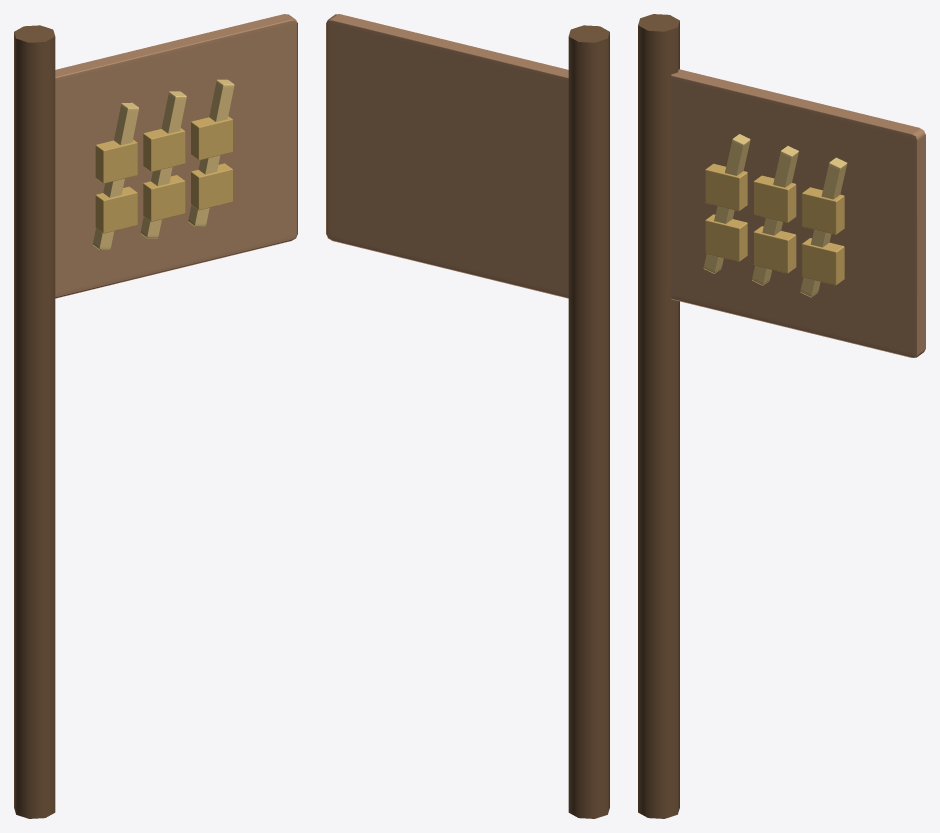
Rendered from wheatbanner-3.glb.
The picture shows the model from 3 angles, left to right: view 1: azimuth 30°, elevation 25°; view 2: azimuth 150°, elevation 25°; view 3: azimuth 330°, elevation 25°; orthographic projection.
Visible parts, largest first — view 1: wheatbanner-3-0; view 2: wheatbanner-3-0; view 3: wheatbanner-3-0.
Boxes of the visible parts, x1,y1,x2,y2 form: wheatbanner-3-0: (14, 14, 297, 818); wheatbanner-3-0: (326, 14, 609, 818); wheatbanner-3-0: (638, 14, 925, 818).
Bounding box in the file's own units: 0.525 × 1.4 × 0.0735.
